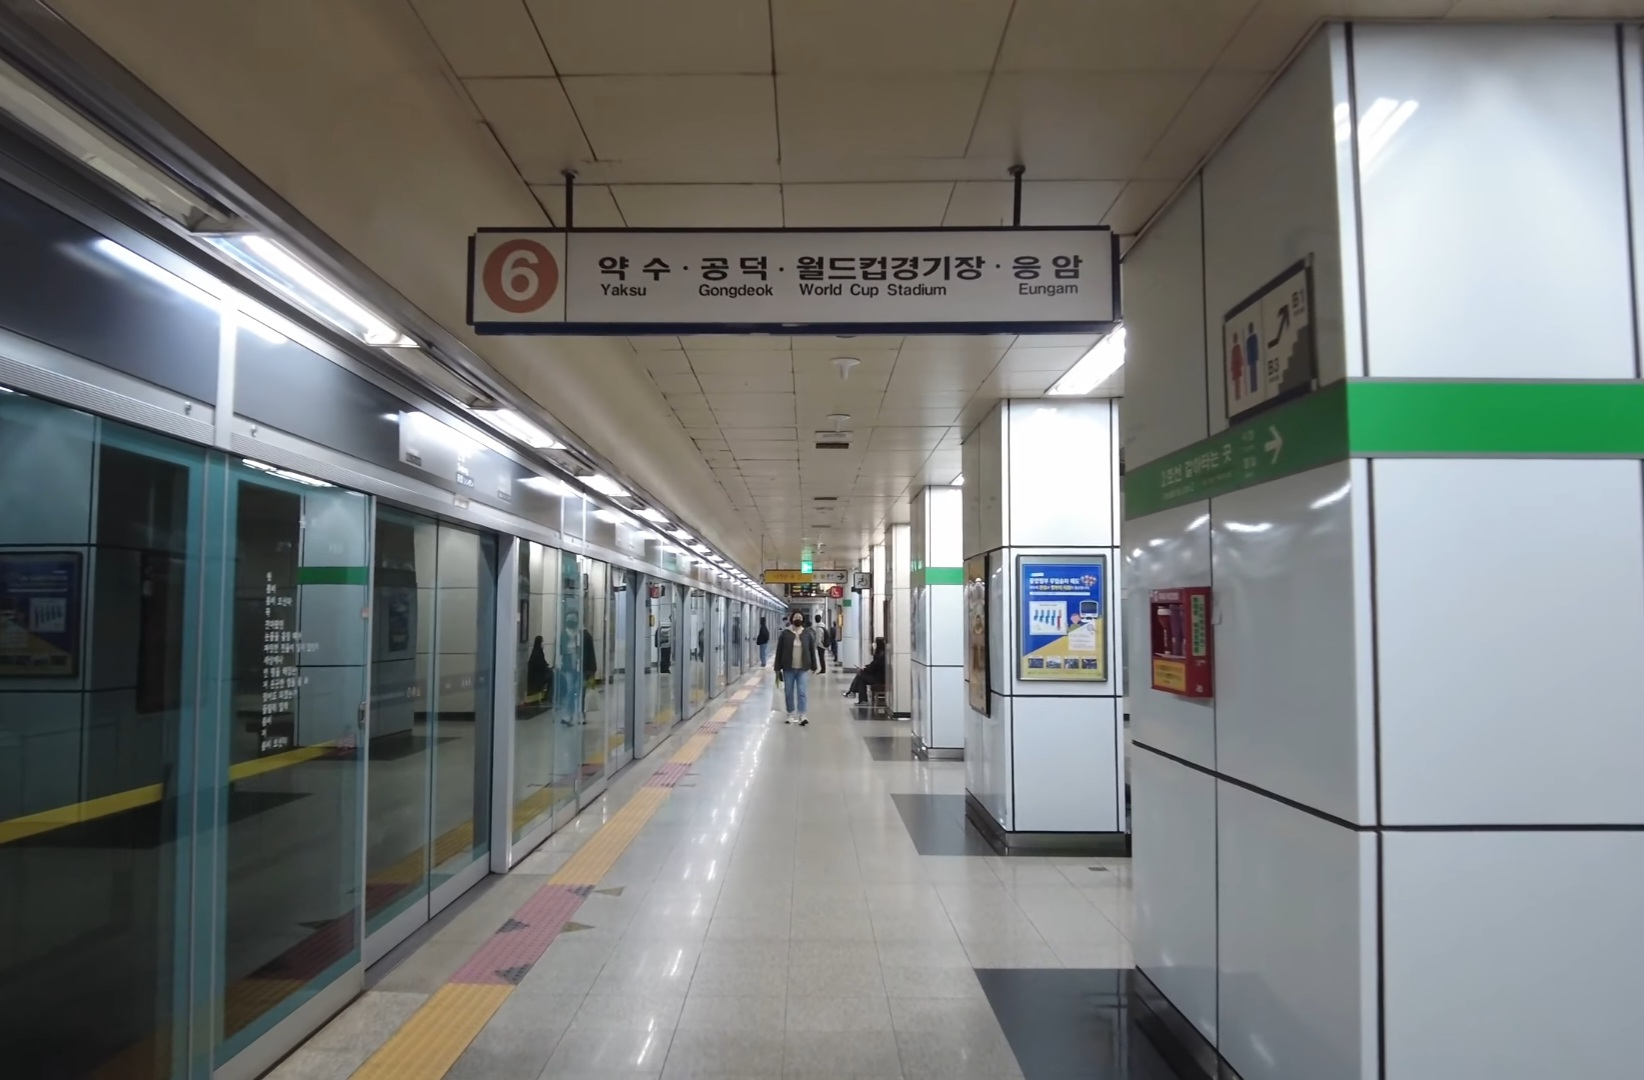signBoard: (463, 218, 1128, 341)
